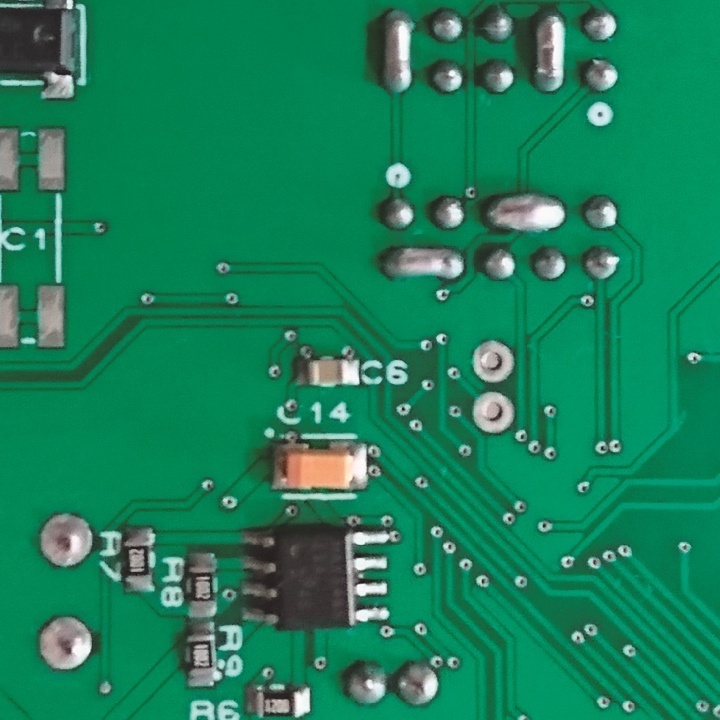F: (36, 616, 96, 673), (37, 513, 94, 570), (468, 339, 516, 385), (469, 391, 519, 435)
P: (479, 192, 570, 235), (531, 6, 573, 95), (379, 3, 415, 103), (379, 243, 470, 282)
